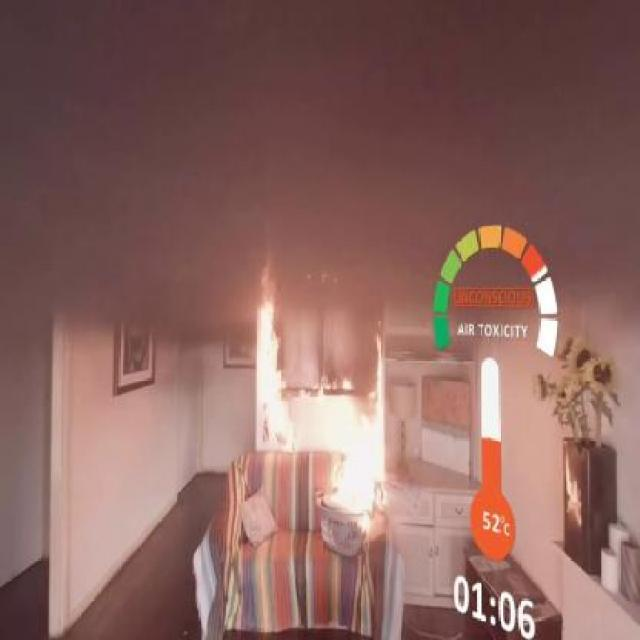fire: (325, 363, 390, 542), (238, 274, 296, 468)
smoke: (80, 16, 542, 250)
